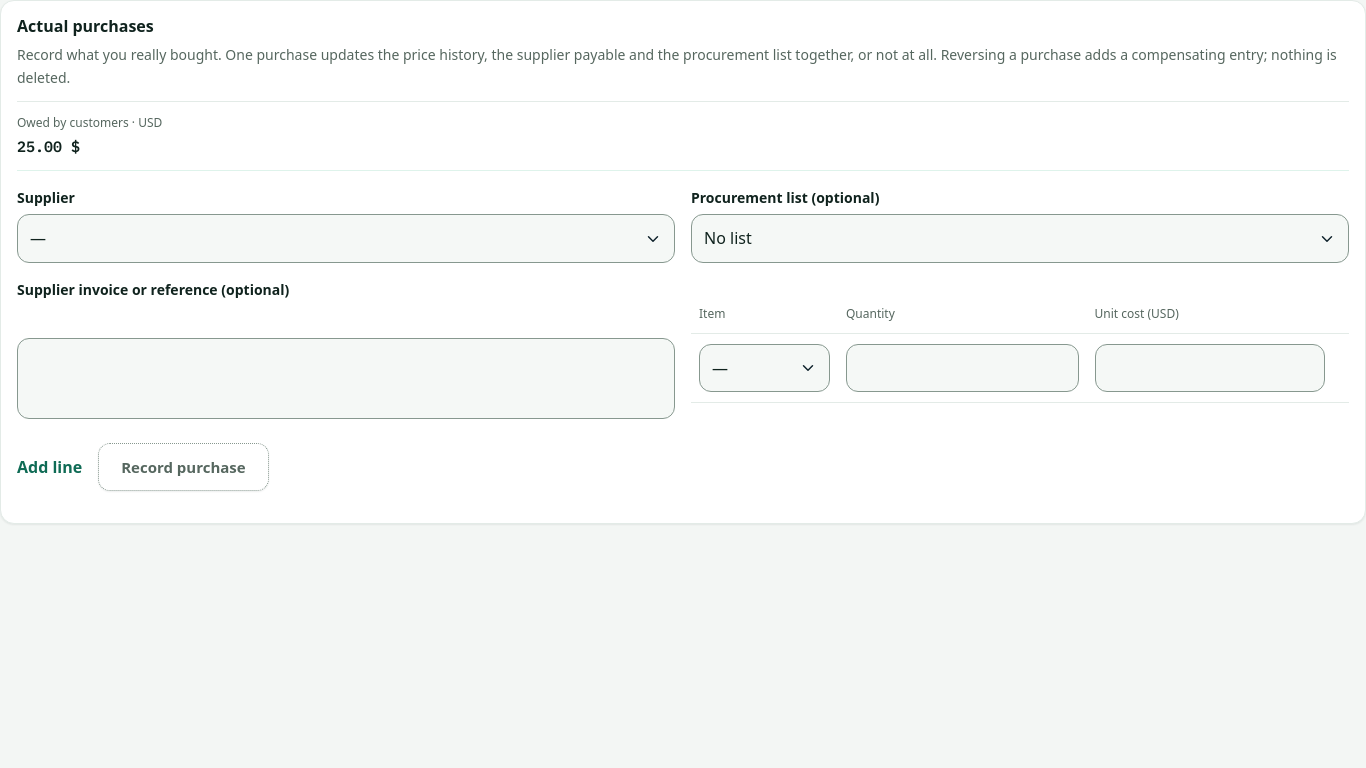
Test case: owner records a purchase with an idempotency key and sees the payable totals
Expected: the text "Owed by customers · USD" is shown, [17,114,162,131]
Select "Bekaa" in the dropdown labelled "Supplier" at (346, 239), box [17,214,675,263]
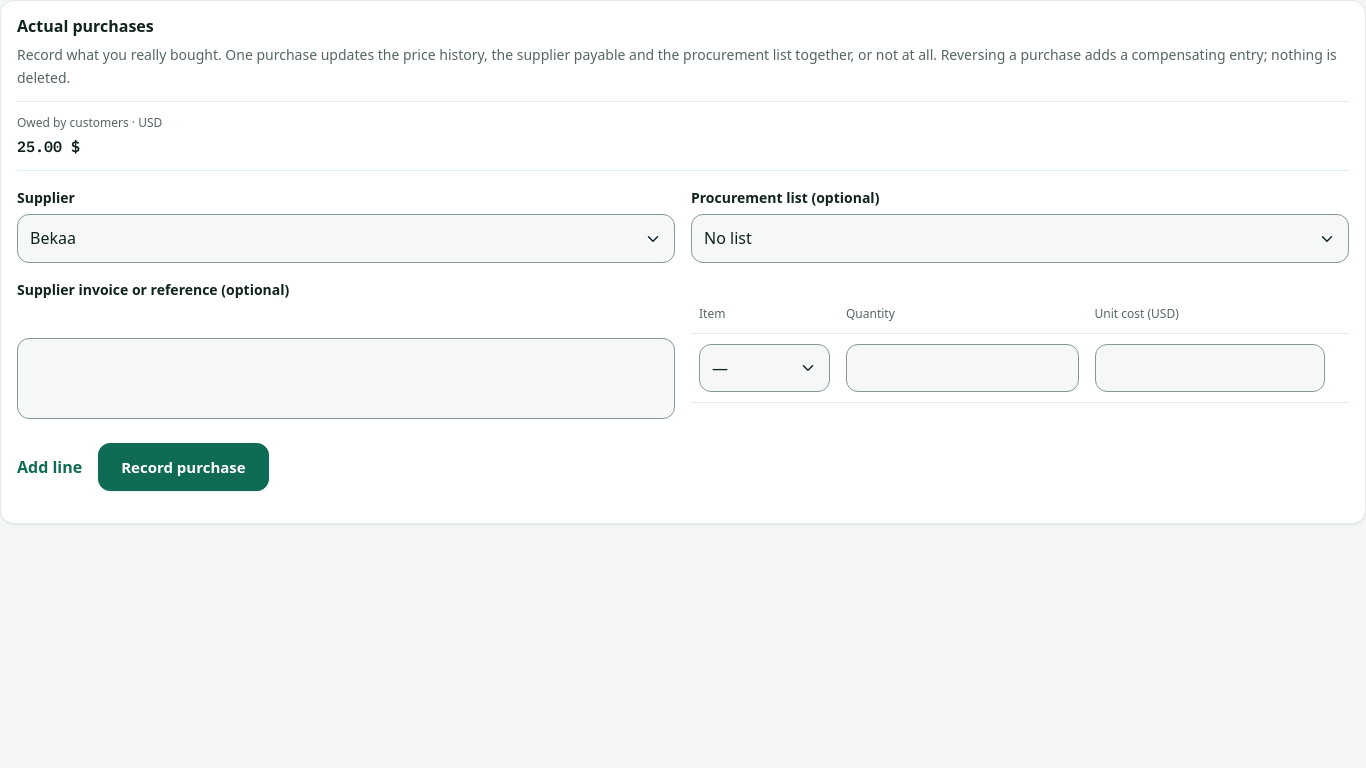
Select "Cedar Water" in the dropdown named "Line 1 product" at (764, 368), box [699,344,830,392]
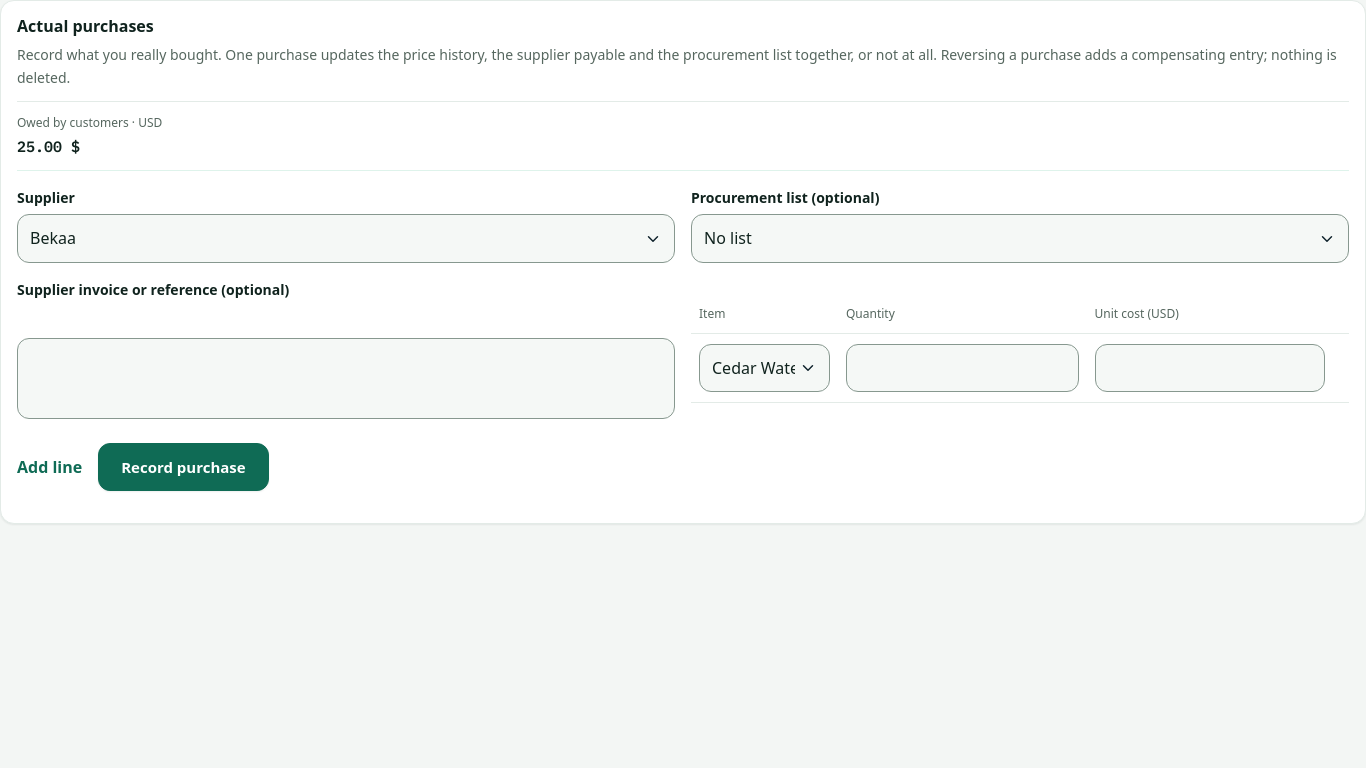
Type "4" into the number field named "Line 1 quantity".
click(962, 368); type("4")  # box [846,344,1078,392]
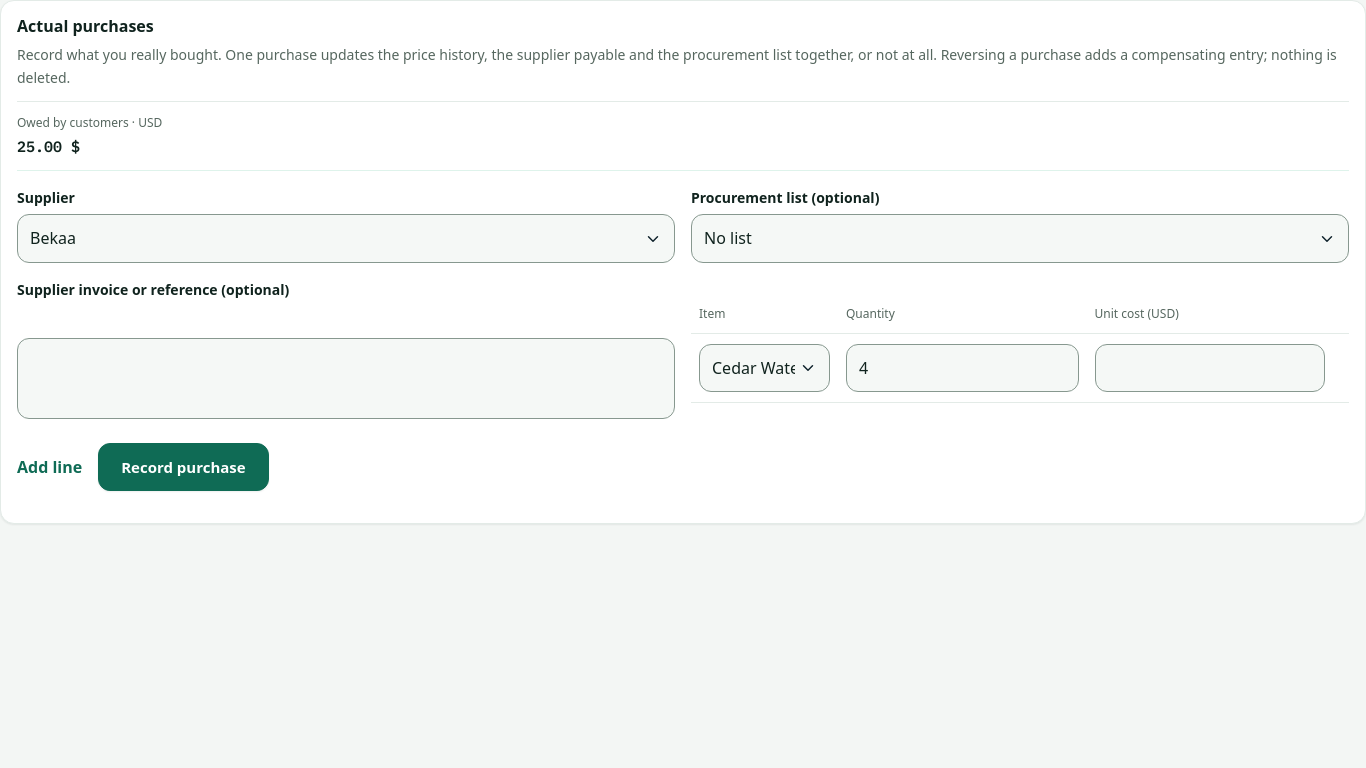
Type "7.5" into the number field named "Line 1 unit cost".
click(1210, 368); type("7.5")  # box [1094,344,1325,392]
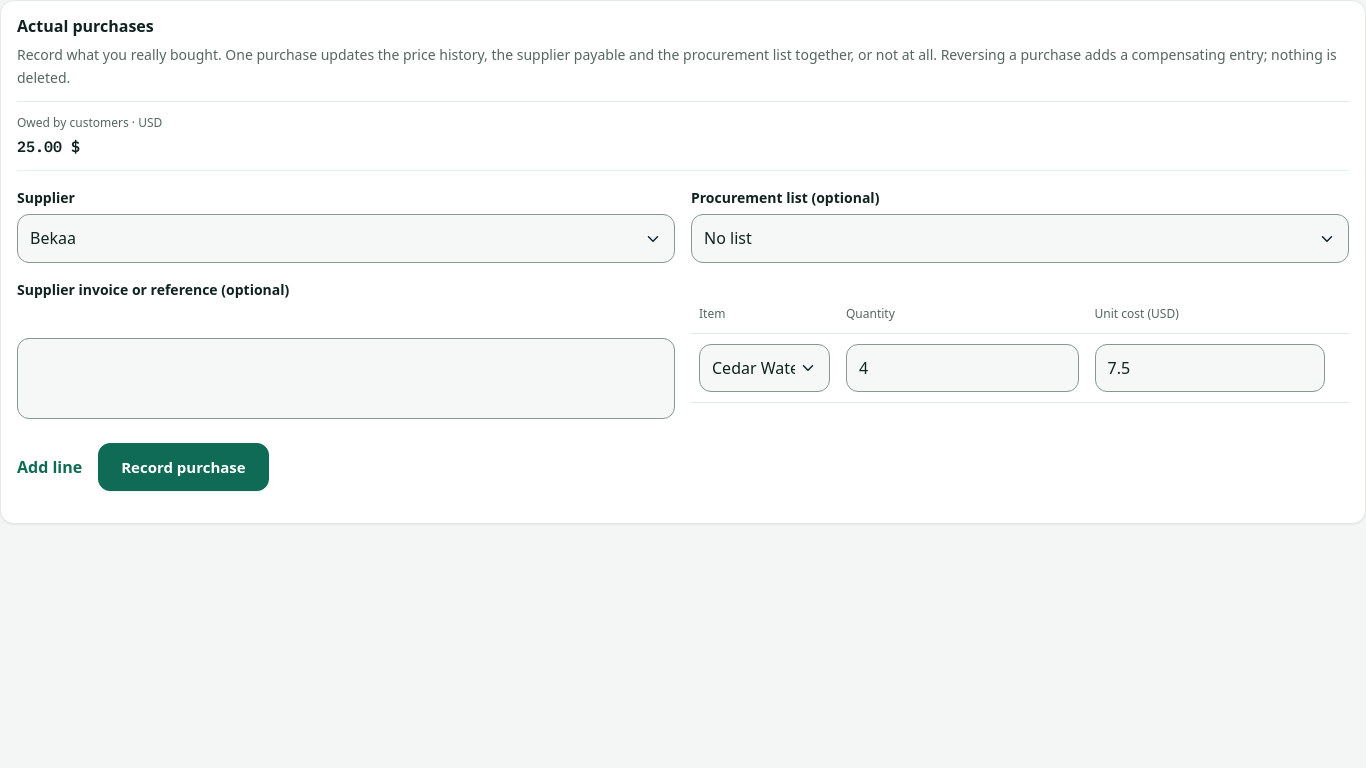
Click the button "Record purchase".
click(183, 467)  # box [98,443,269,491]
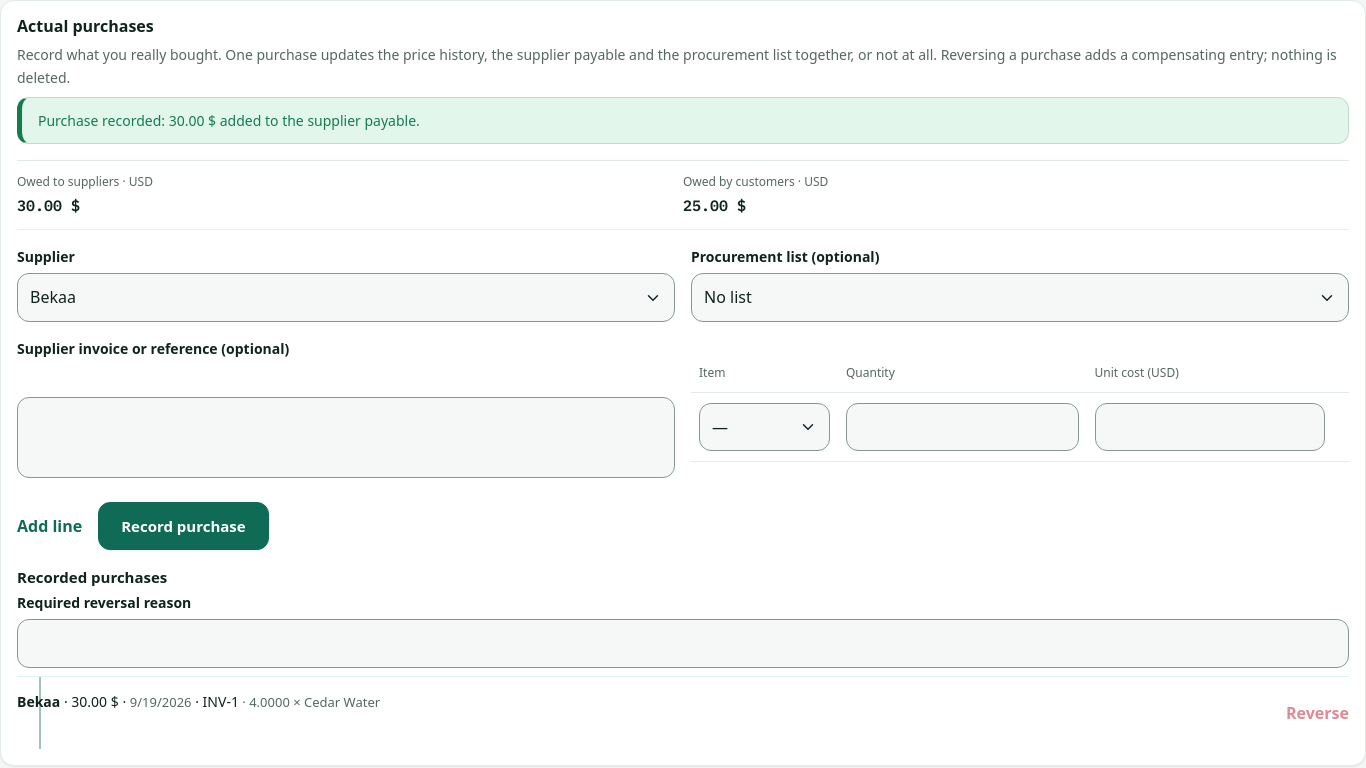
Result: the text "Purchase recorded: 30.00 $ added to the supplier payable." is shown at [38,111,420,130]
Result: the text "Owed to suppliers · USD" is shown at [17,173,153,190]
Result: the button "Reverse" is disabled at [1286,691,1349,735]
